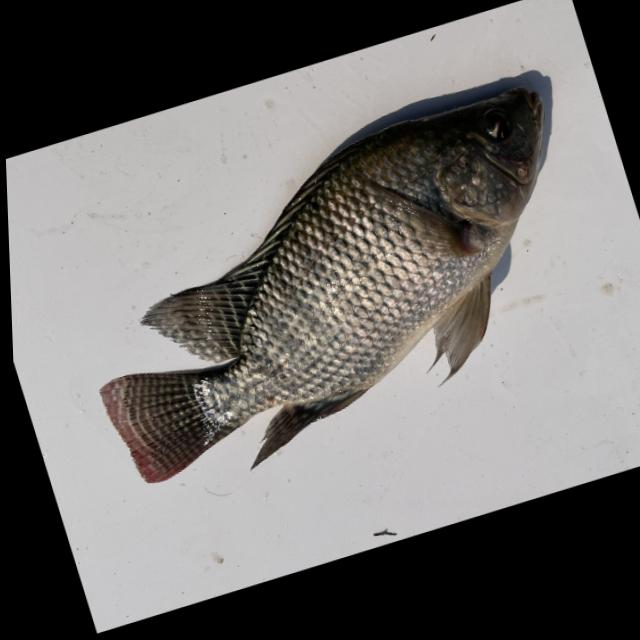Tilapia: (46, 77, 624, 506)
